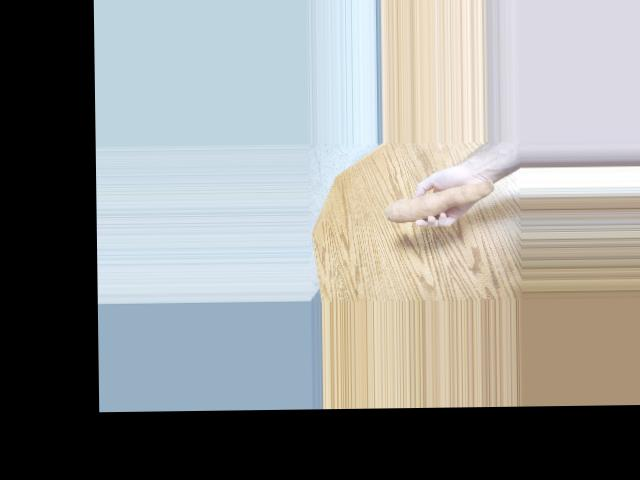sweet_potato: (381, 183, 490, 225)
